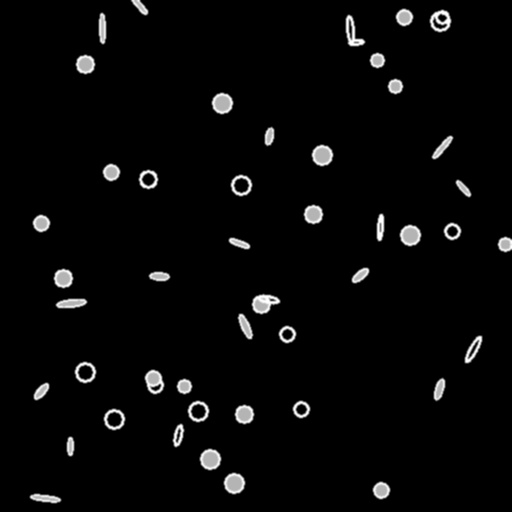pseudomonas: (463, 335, 483, 363), (432, 136, 452, 158), (237, 313, 253, 339), (56, 298, 86, 308), (351, 267, 369, 283), (33, 382, 49, 400), (130, 0, 148, 15), (172, 424, 184, 446), (455, 180, 471, 196), (433, 379, 445, 399), (229, 237, 249, 249), (31, 494, 59, 502), (257, 294, 279, 304), (346, 16, 354, 42), (99, 13, 105, 43), (264, 128, 274, 144), (377, 215, 383, 239), (149, 273, 169, 279), (67, 437, 73, 455), (348, 39, 364, 45)
synechocystis: (189, 402, 207, 420), (105, 410, 123, 428), (431, 12, 449, 30), (225, 474, 243, 492), (213, 94, 231, 112), (76, 363, 94, 381), (313, 146, 331, 164), (201, 450, 219, 468), (401, 226, 419, 244), (232, 176, 250, 194), (140, 171, 156, 187), (236, 406, 252, 422), (305, 206, 321, 222), (253, 296, 269, 312), (77, 56, 93, 72), (55, 270, 71, 286), (445, 224, 459, 238), (374, 483, 388, 497), (397, 10, 411, 24), (104, 165, 118, 179), (34, 216, 48, 230), (280, 327, 294, 341), (294, 402, 308, 416), (148, 378, 162, 392), (146, 371, 160, 385), (371, 54, 383, 66), (389, 80, 401, 92), (436, 11, 448, 23), (178, 380, 190, 392), (499, 238, 511, 250)
